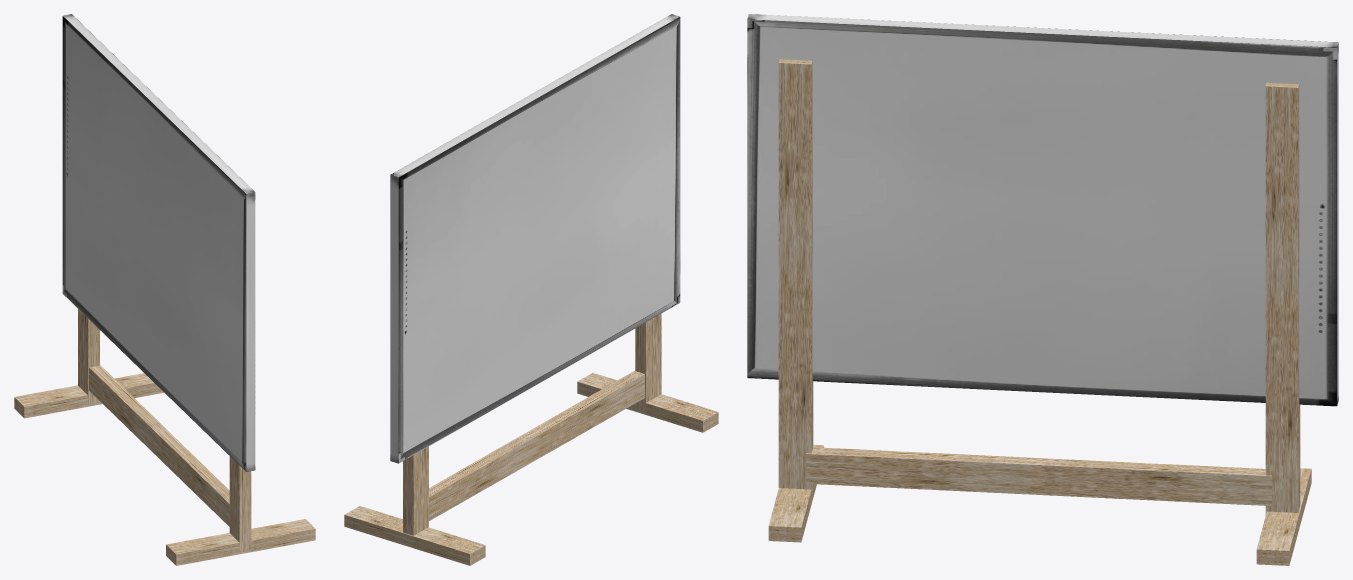
The model's file is whiteboard.fbx.
The picture shows the model from 3 angles, left to right: view 1: azimuth 30°, elevation 25°; view 2: azimuth 150°, elevation 25°; view 3: azimuth 270°, elevation 25°; orthographic projection. The views are drawn at different scales.
Parts seen in each view (by area): view 1: Cube__8_, Cube, Cube__5_, Cube__3_, Cube__2_, Cube__1_; view 2: Cube__8_, Cube, Cube__3_, Cube__5_, Cube__1_, Cube__2_; view 3: Cube__8_, Cube, Cube__2_, Cube__1_, Cube__3_, Cube__5_.
Boxes of the visible parts, box(x1,y1,x2,y2) form: Cube__8_: box(62, 14, 255, 471); Cube: box(89, 365, 229, 526); Cube__5_: box(166, 519, 315, 565); Cube__3_: box(14, 373, 163, 418); Cube__2_: box(229, 456, 251, 552); Cube__1_: box(78, 309, 99, 405); Cube__8_: box(390, 14, 680, 463); Cube: box(429, 370, 644, 520); Cube__3_: box(344, 506, 485, 565); Cube__5_: box(577, 373, 718, 432); Cube__1_: box(403, 446, 428, 535); Cube__2_: box(635, 313, 661, 412); Cube__8_: box(747, 14, 1338, 406); Cube: box(806, 447, 1272, 505); Cube__2_: box(778, 59, 813, 501); Cube__1_: box(1265, 82, 1300, 514); Cube__3_: box(1256, 468, 1311, 565); Cube__5_: box(768, 444, 823, 542).
Size of the model in its own units: 78.26 by 163 by 182.
